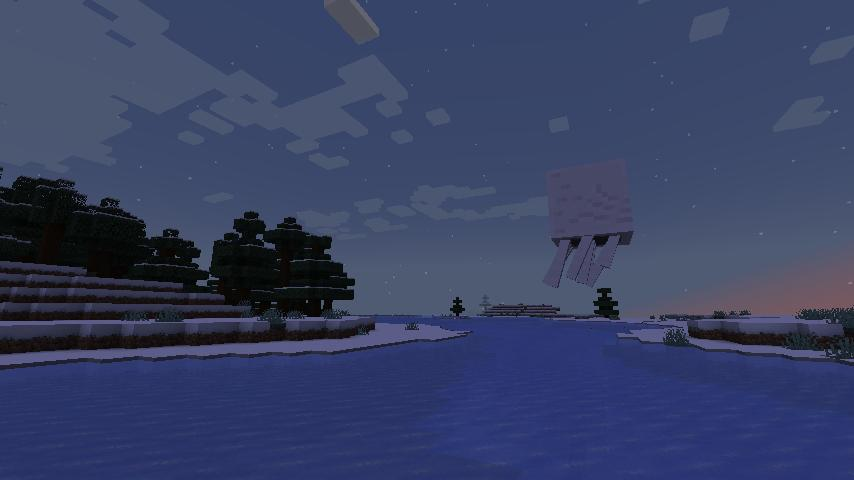ghast: (541, 154, 636, 284)
